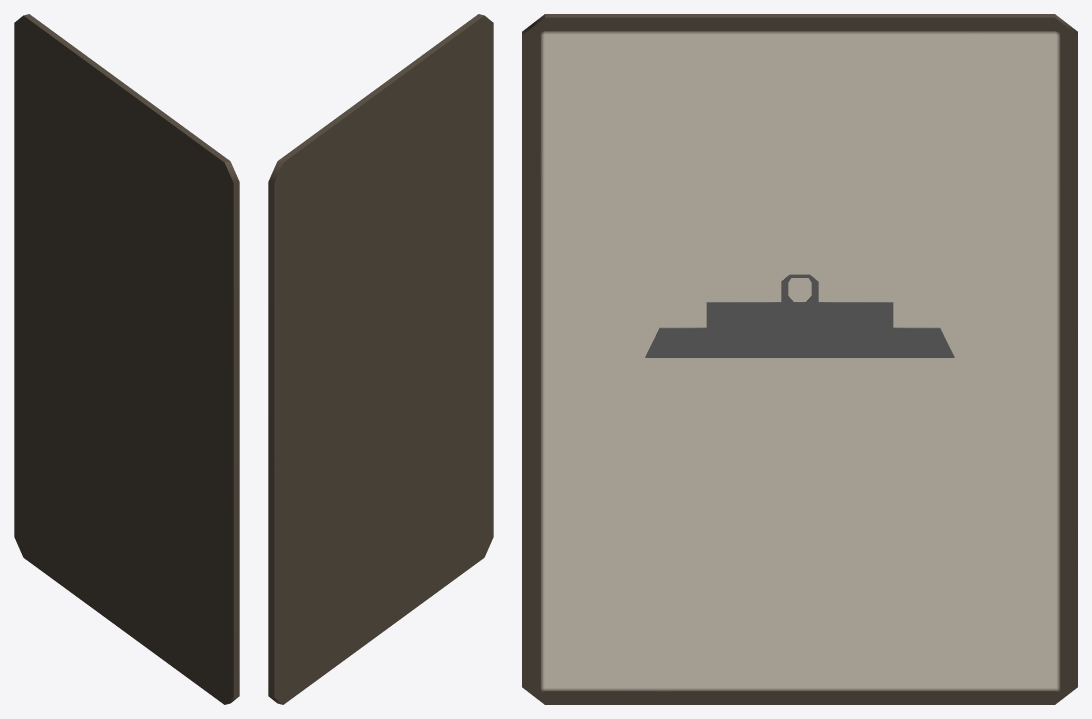
Rendered from Clipboard.fbx.
3 views of the same model, side by side, from view 1: azimuth 30°, elevation 25°; view 2: azimuth 150°, elevation 25°; view 3: azimuth 270°, elevation 25° (orthographic). The views are drawn at different scales.
Visible parts, largest first — view 1: Clipboard_Wood; view 2: Clipboard_Wood; view 3: Clipboard_Wood, Clipboard_Clip.
Boxes of the visible parts, x1,y1,x2,y2 form: Clipboard_Wood: (14, 14, 239, 704); Clipboard_Wood: (268, 14, 493, 704); Clipboard_Wood: (522, 14, 1077, 704); Clipboard_Clip: (645, 274, 954, 357).
Bounding box in the file's own units: 0.0317 × 2.36 × 1.73.
